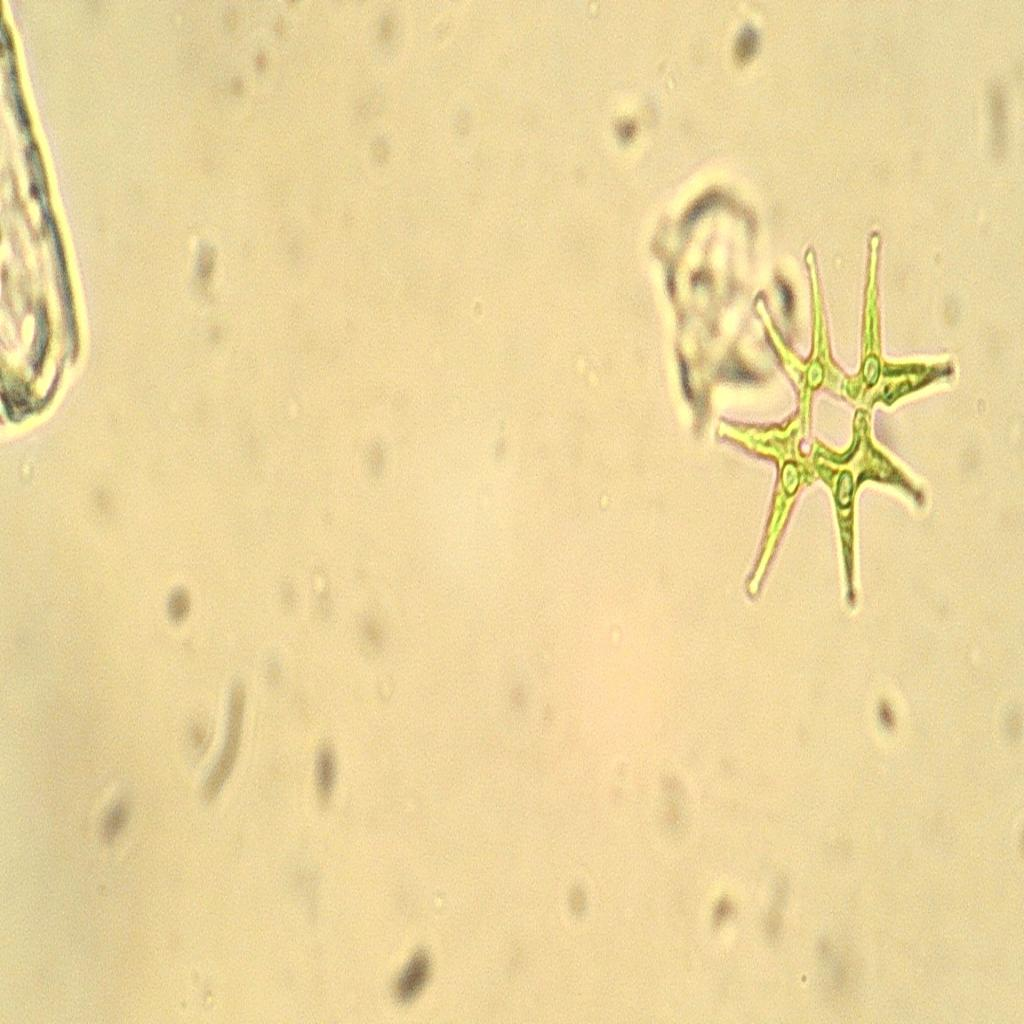Pediastrum_CT: (702, 214, 973, 640)
